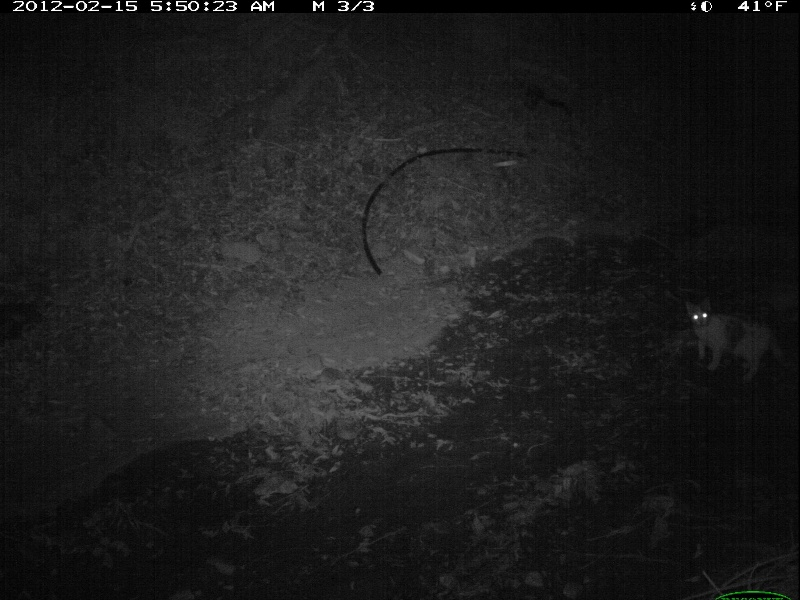cat: (680, 298, 790, 384)
